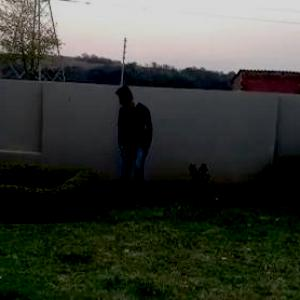follow: (116, 77, 156, 212)
